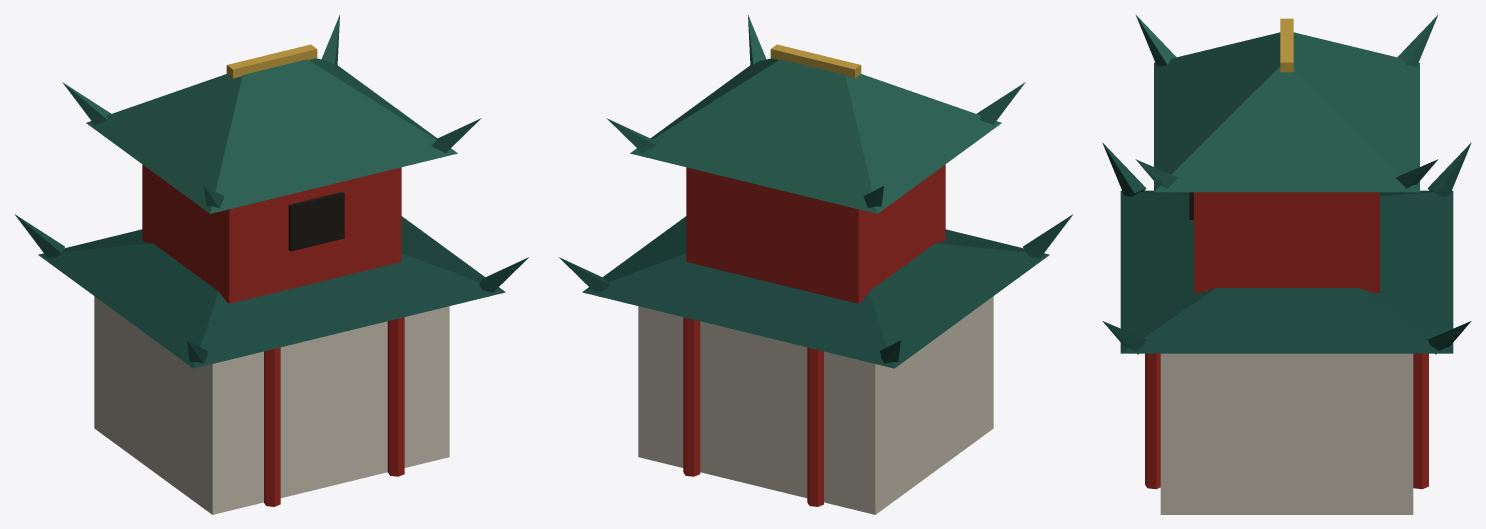
File: dragon_house_b.glb
The picture shows the model from 3 angles, left to right: view 1: azimuth 30°, elevation 25°; view 2: azimuth 150°, elevation 25°; view 3: azimuth 270°, elevation 25°; orthographic projection. The views are drawn at different scales.
Parts seen in each view (by area): view 1: dragon_house_b; view 2: dragon_house_b; view 3: dragon_house_b.
Boxes of the visible parts, <box> form: dragon_house_b: <box>14,15,528,514</box>; dragon_house_b: <box>559,15,1073,514</box>; dragon_house_b: <box>1102,15,1471,514</box>.
Size of the model in its own units: 3.18 by 3.42 by 2.78.
